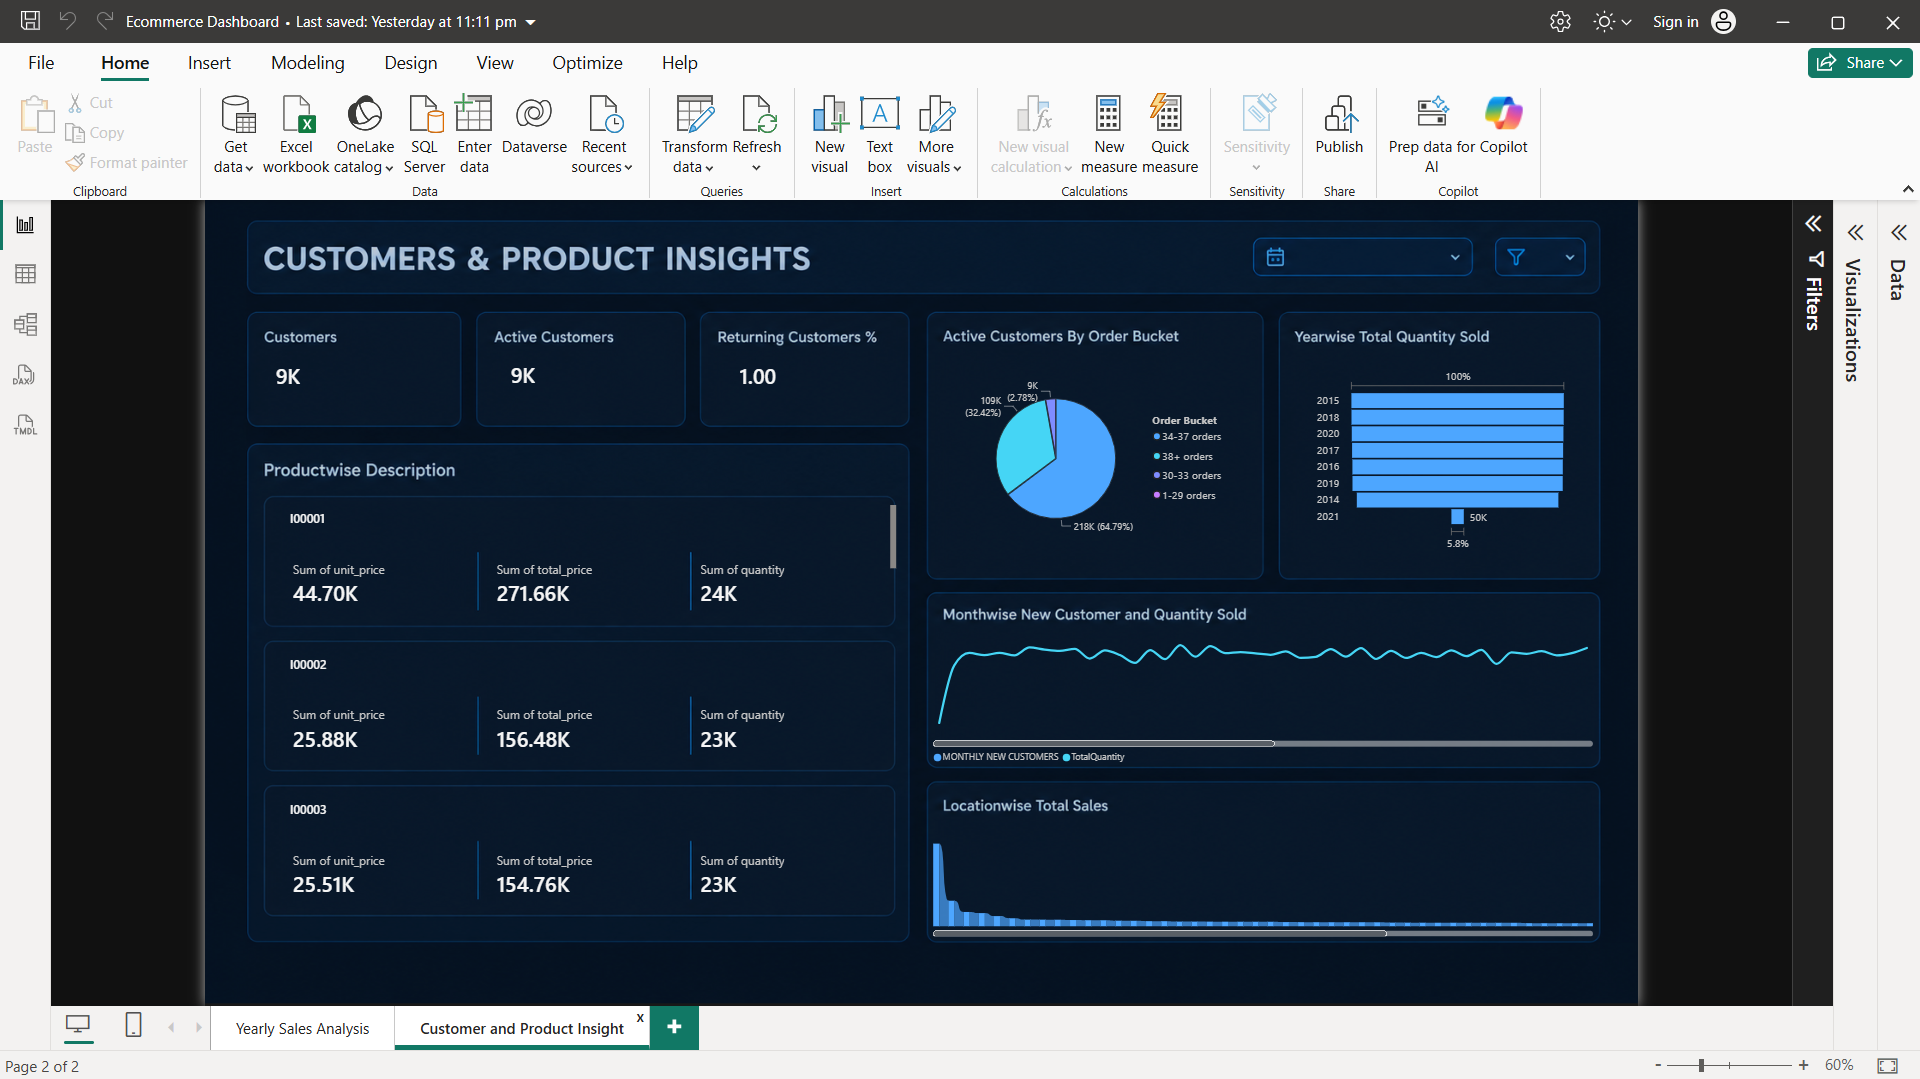

Layout of this report page (visuals, bound fields, positions):
{"tool":"powerbi","page":{"name":"Customer and Product Insight","canvas":[1920,1080],"ordinal":1},"visuals":[{"type":"cardVisual","fields":{"Data":["fact_table.Customers"]},"box":[78.5,200.6,170.9,68],"z":0},{"type":"cardVisual","fields":{"Data":["customer_dim.RETURNING CUSTOMERS %"]},"box":[699.4,200.6,170.9,68],"z":1000},{"type":"cardVisual","fields":{"Data":["customer_dim.ACTIVE CUSTOMERS"]},"box":[394,200,170.9,68],"z":2000},{"type":"pieChart","fields":{"Category":["customer_dim.order_bucket"],"Y":["Sum(customer_dim.order_count)"]},"box":[995.6,208.9,394.4,275.6],"z":3000},{"type":"funnel","fields":{"Category":["time_dim.year"],"Y":["fact_table.TotalQuantity"]},"box":[1474.4,208.9,367.8,275.6],"z":4000},{"type":"cardVisual","fields":{"Data":["Sum(fact_table.unit_price)","Sum(fact_table.total_price)","Sum(fact_table.quantity)"],"Rows":["fact_table.item_key"]},"box":[102.9,408.1,824,578],"z":5000},{"type":"lineChart","fields":{"Category":["time_dim.month_year"],"Y":["customer_dim.MONTHLY NEW CUSTOMERS","fact_table.TotalQuantity"]},"box":[960,566,916,210],"z":6000},{"type":"ribbonChart","fields":{"Category":["store_dim.store_location"],"Y":["fact_table.TotalSales"]},"box":[960,808.8,916.2,193.8],"z":7000}]}

Visuals, with their boxes on the page's 1920x1080 design canvas (x1, y1, x2, y2). These are canvas units, not pixel positions in the 1920x1079 screenshot, which may show the page scaled, cropped or inside an application window:
cardVisual - fact_table.Customers: {"x1": 78, "y1": 201, "x2": 249, "y2": 269}
cardVisual - customer_dim.RETURNING CUSTOMERS %: {"x1": 699, "y1": 201, "x2": 870, "y2": 269}
cardVisual - customer_dim.ACTIVE CUSTOMERS: {"x1": 394, "y1": 200, "x2": 565, "y2": 268}
pieChart - customer_dim.order_bucket x Sum(customer_dim.order_count): {"x1": 996, "y1": 209, "x2": 1390, "y2": 484}
funnel - time_dim.year x fact_table.TotalQuantity: {"x1": 1474, "y1": 209, "x2": 1842, "y2": 484}
cardVisual - Sum(fact_table.unit_price) x Sum(fact_table.total_price): {"x1": 103, "y1": 408, "x2": 927, "y2": 986}
lineChart - time_dim.month_year x customer_dim.MONTHLY NEW CUSTOMERS: {"x1": 960, "y1": 566, "x2": 1876, "y2": 776}
ribbonChart - store_dim.store_location x fact_table.TotalSales: {"x1": 960, "y1": 809, "x2": 1876, "y2": 1003}
